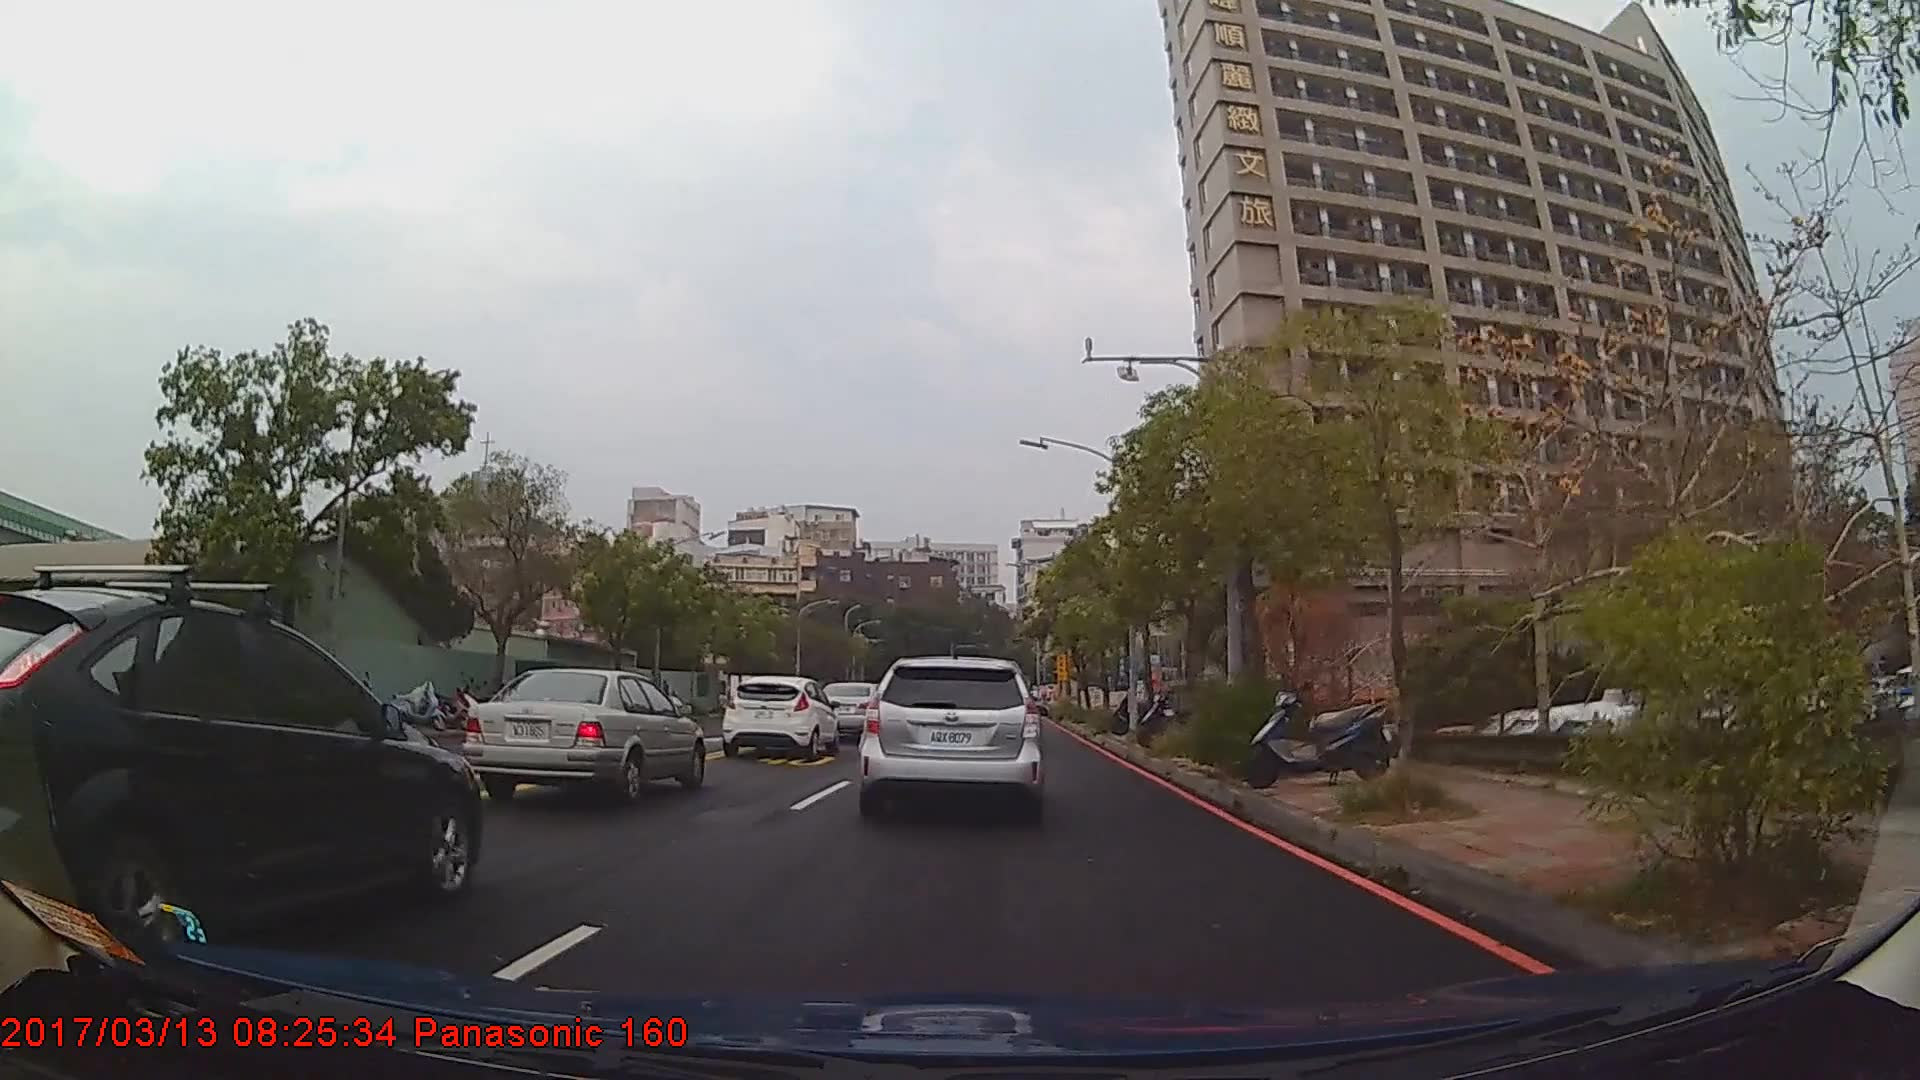vehicle: (0, 583, 481, 957), (462, 669, 705, 808), (856, 657, 1043, 823), (721, 676, 840, 760), (816, 682, 886, 744)
